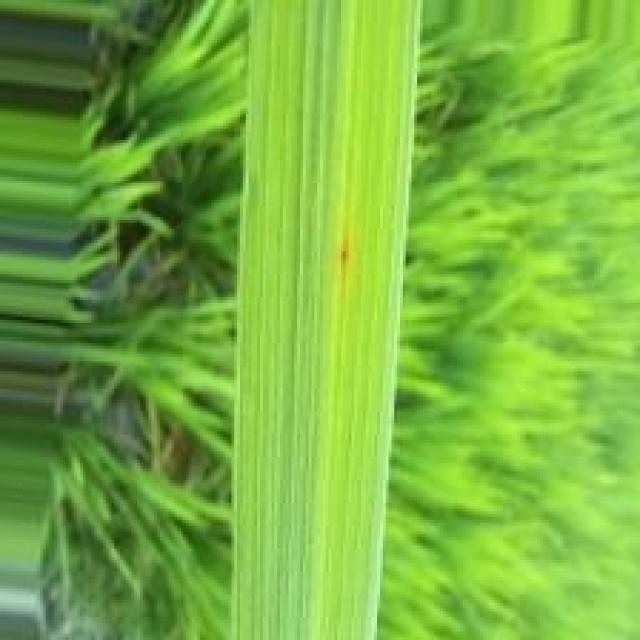Brown_Spot: (337, 240, 353, 272)
